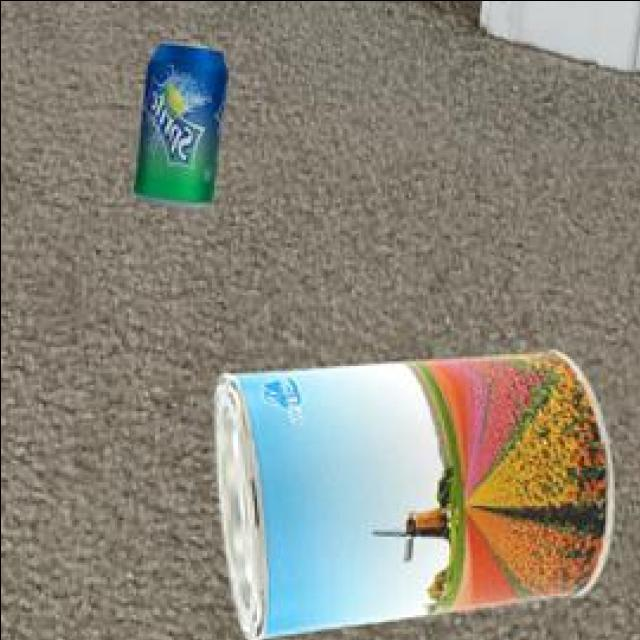logam: (217, 347, 617, 636), (136, 39, 231, 205)
